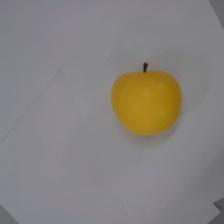yellow: (111, 63, 181, 135)
